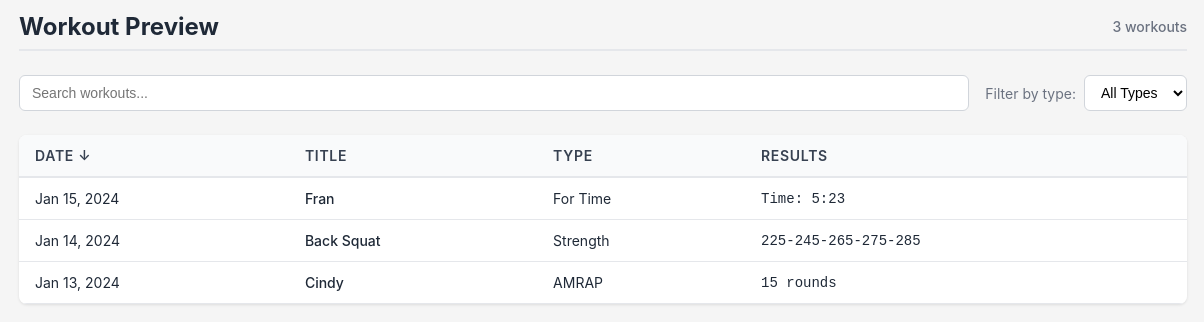
Test: ExportPreview › Filtering › should filter workouts by search term in title
Type "Fran" into the field with placeholder "Search workouts..." at (494, 93), box x1=19 y1=75 x2=969 y2=111
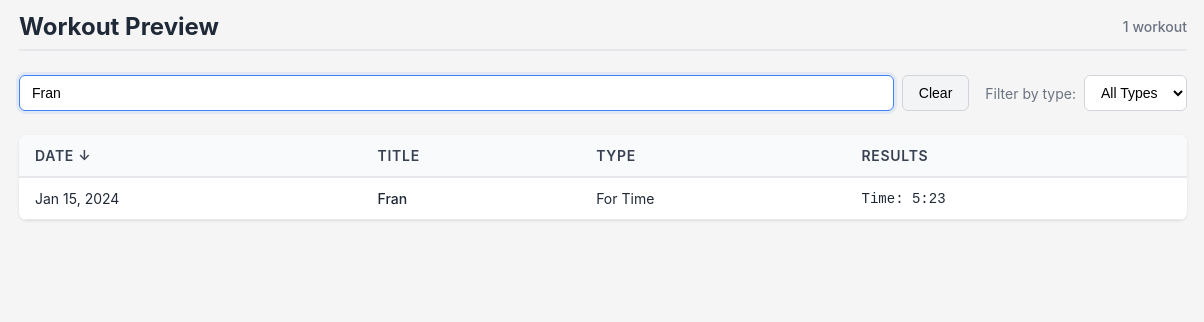
Expected: the text "Fran" is shown, x1=362 y1=177 x2=580 y2=220
Now the text "Back Squat" is gone
Now the text "Cindy" is gone
